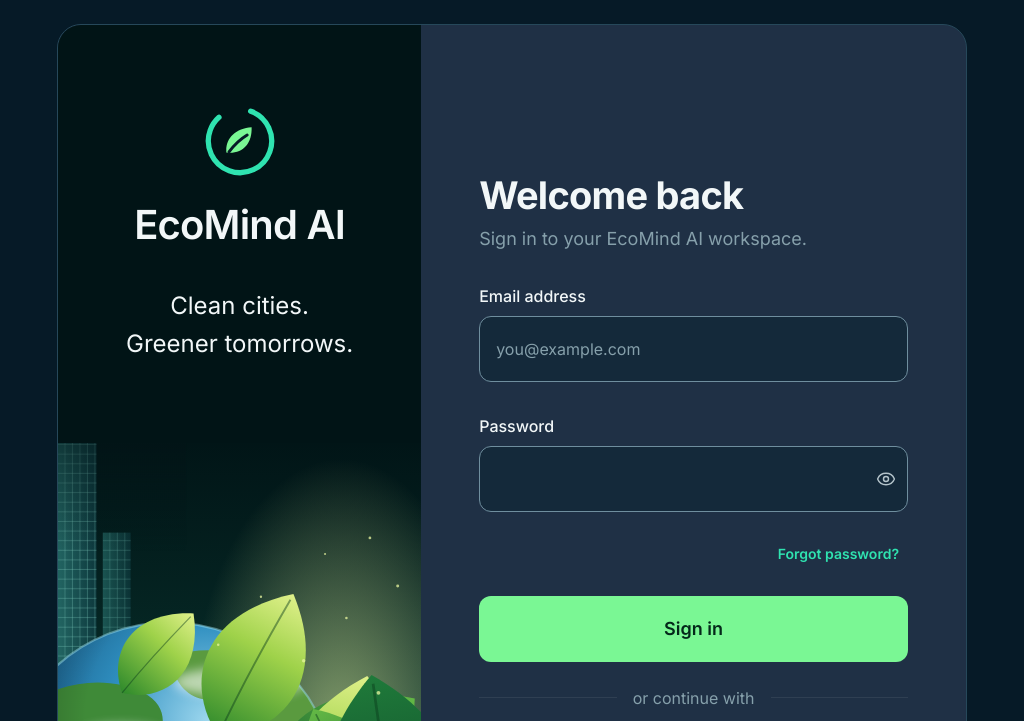
sign-in › reports an unreachable server without claiming the password was wrong
The width and height of the screenshot is (1024, 721).
Type "asha@example.org" into the field labelled "Email address".
click(694, 349); type("asha@example.org")  # box [479,316,908,382]
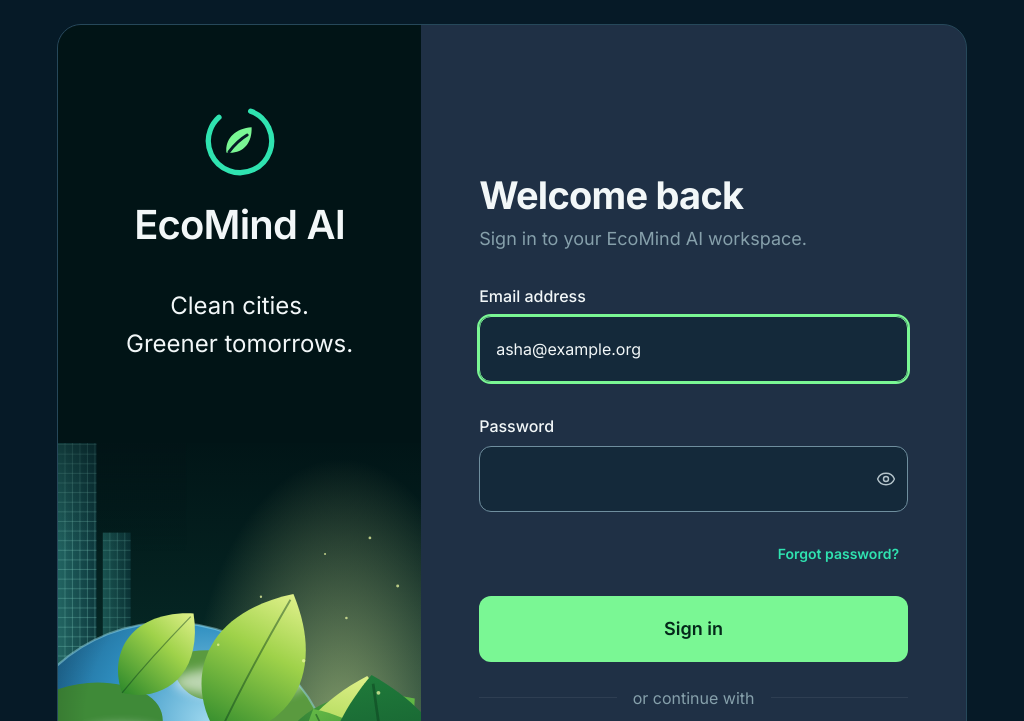
Type "a long passphrase 1" into the password field labelled "Password".
click(694, 479); type("a long passphrase 1")  # box [479,446,908,512]
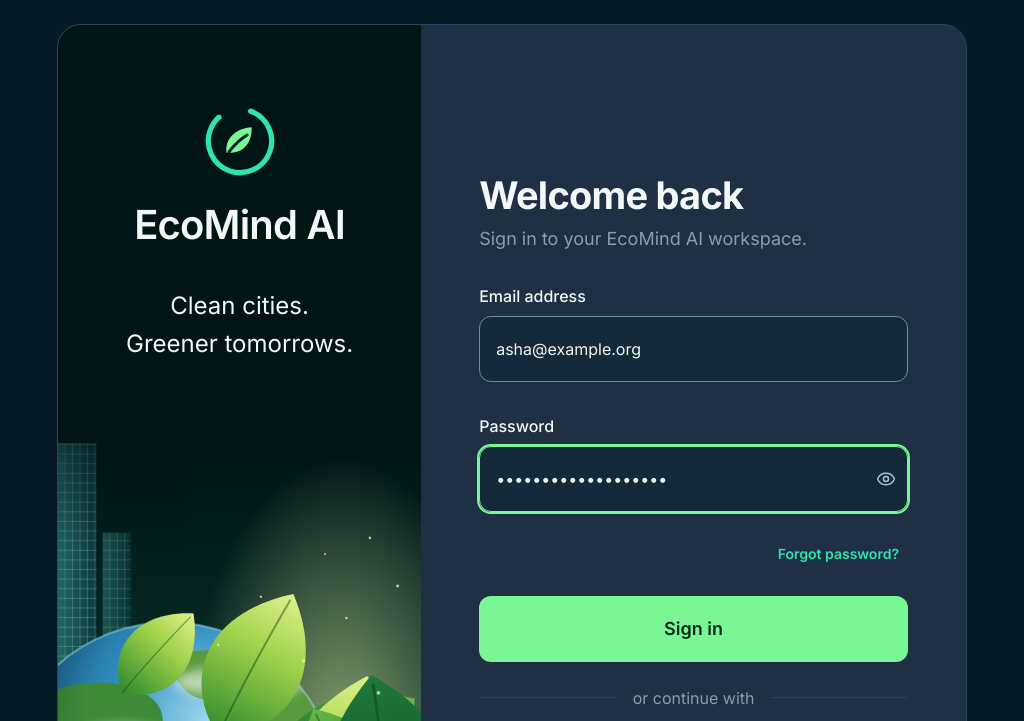
Click the button "Sign in".
click(694, 629)  # box [479,596,908,662]
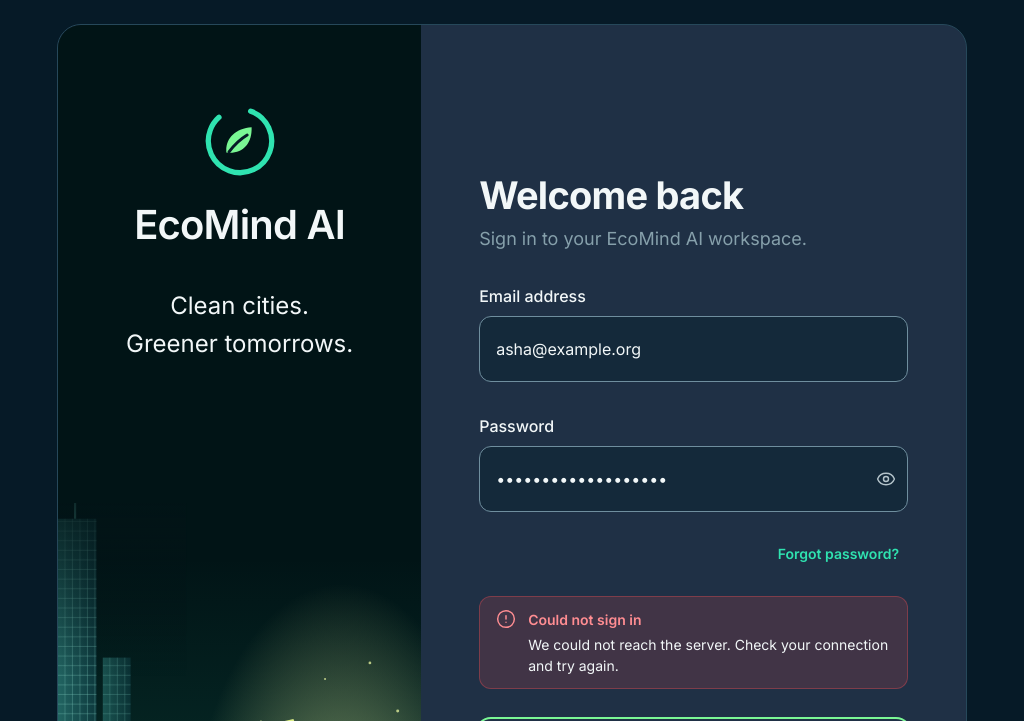
Expected: the message does not show "Incorrect", [479,596,908,689]
Now the message shows "could not reach the server", box [528,636,888,674]
